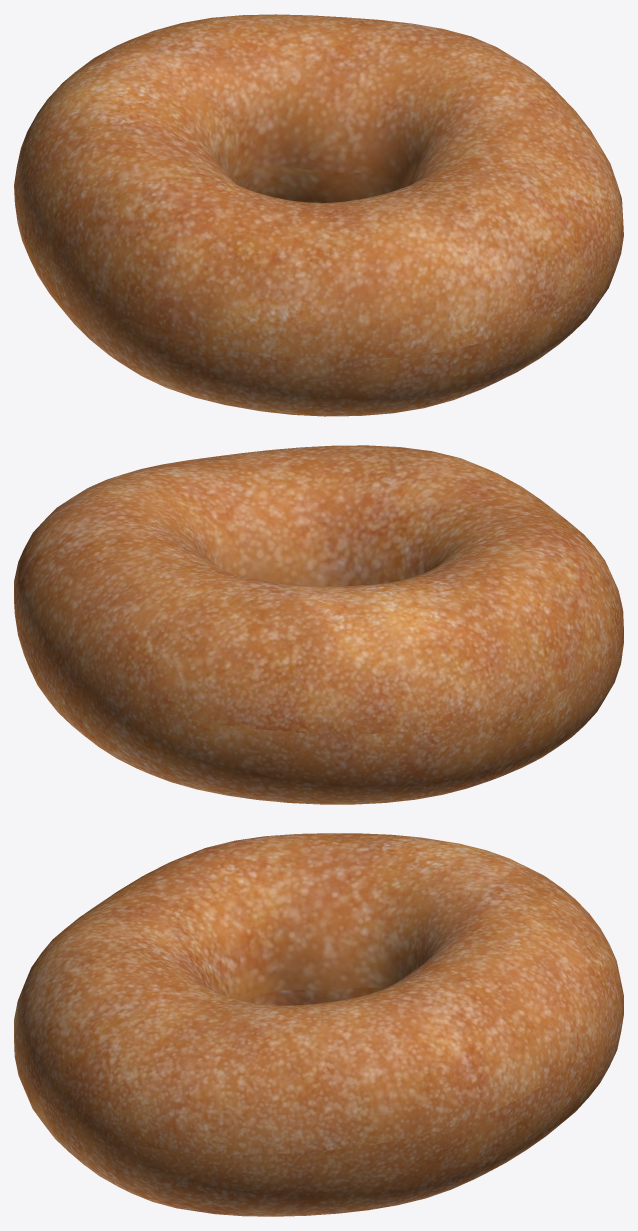
The model's file is Donut4.obj.
The picture shows the model from 3 angles, top to bottom: view 1: azimuth 30°, elevation 25°; view 2: azimuth 150°, elevation 25°; view 3: azimuth 270°, elevation 25°; orthographic projection.
Visible parts, largest first — view 1: donut077; view 2: donut077; view 3: donut077.
Boxes of the visible parts, bbox=[...] form: donut077: bbox=[14, 14, 623, 416]; donut077: bbox=[14, 445, 623, 804]; donut077: bbox=[14, 833, 623, 1216].
Bounding box in the file's own units: 9.35 × 3.88 × 9.66.
1 material, 1 textured.
